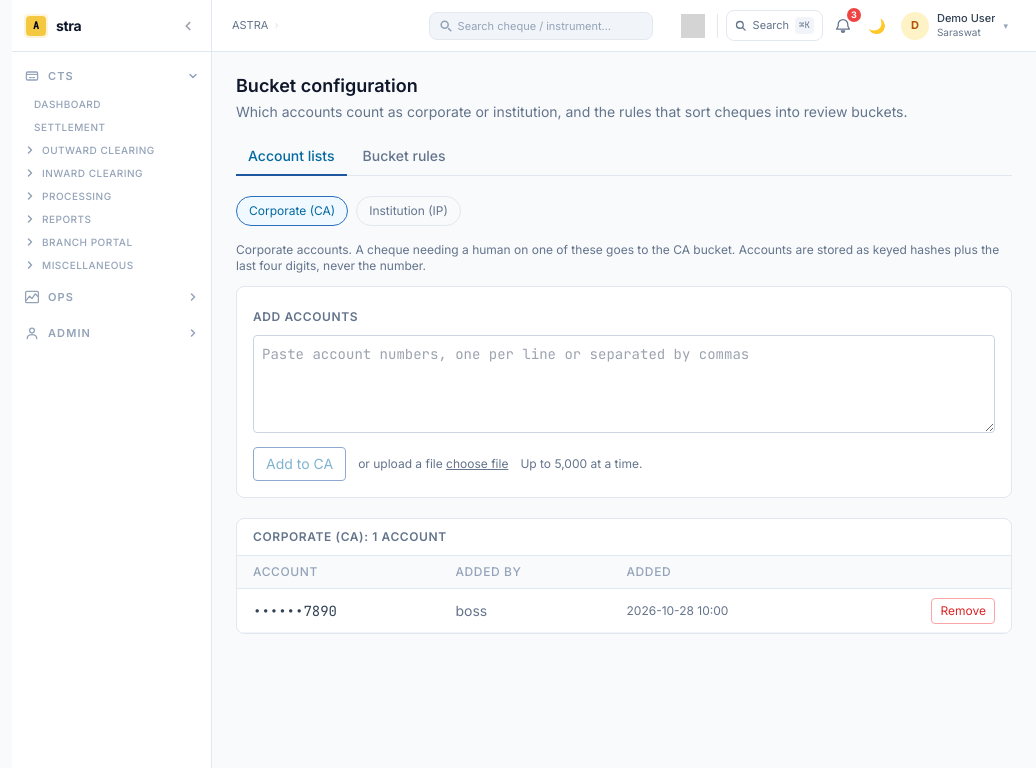
Test: CTSBucketConfig › switches to the IP list
The width and height of the screenshot is (1036, 768).
Expected: the text "••••••7890" is shown, [237,588,440,632]
Click the button "Institution (IP)" at [408, 211], box [356,196,461,226]
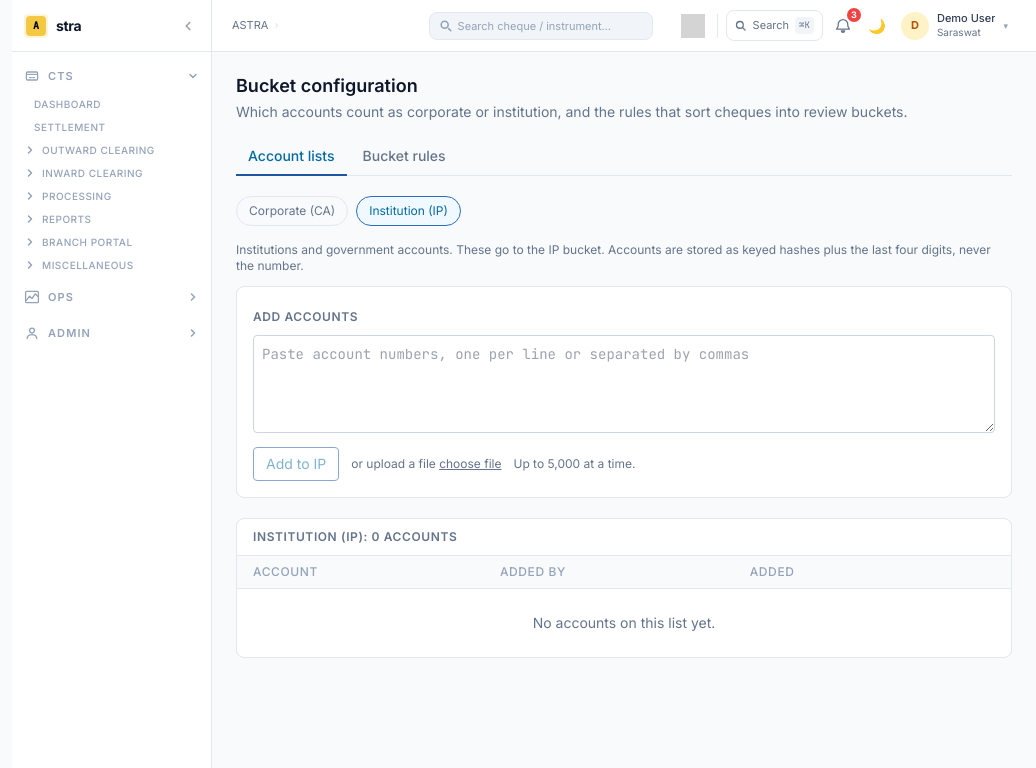
Expected: the text "No accounts on this list yet." is shown, [237,588,1011,657]
